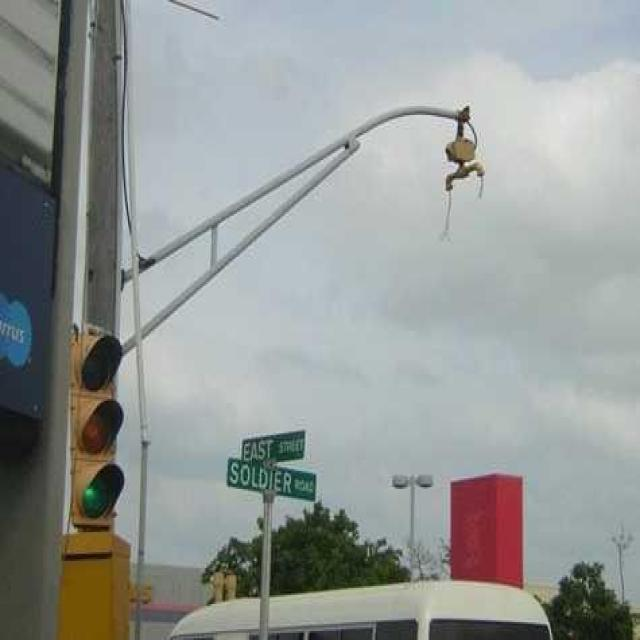Traffic Light -Green-: (68, 320, 130, 532)
